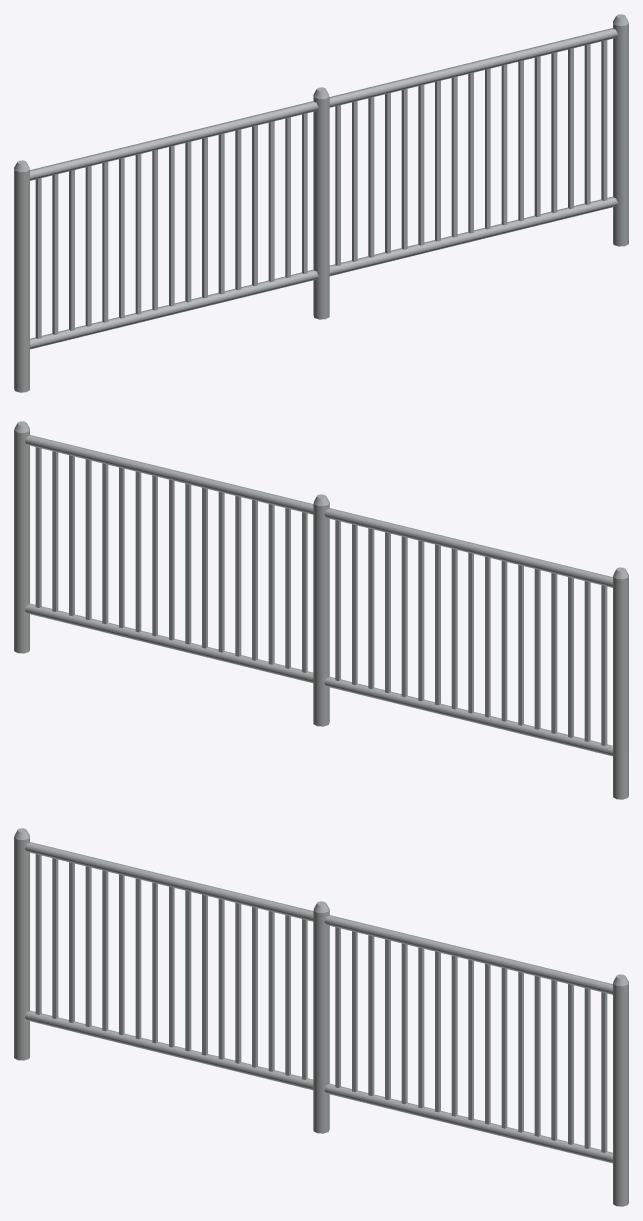
File: railing_low.glb
The picture shows the model from 3 angles, top to bottom: view 1: azimuth 30°, elevation 25°; view 2: azimuth 150°, elevation 25°; view 3: azimuth 330°, elevation 25°; orthographic projection.
Visible parts, largest first — view 1: railing_low; view 2: railing_low; view 3: railing_low.
Boxes of the visible parts, left/top/right/bottom form: railing_low: left=14, top=14, right=628, bottom=392; railing_low: left=14, top=421, right=628, bottom=799; railing_low: left=14, top=828, right=628, bottom=1206.
Size of the model in its own units: 2.97 by 1.05 by 0.07.
Materials: 1 (1 with a texture image).
